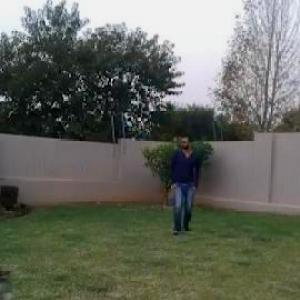follow: (168, 132, 198, 236)
